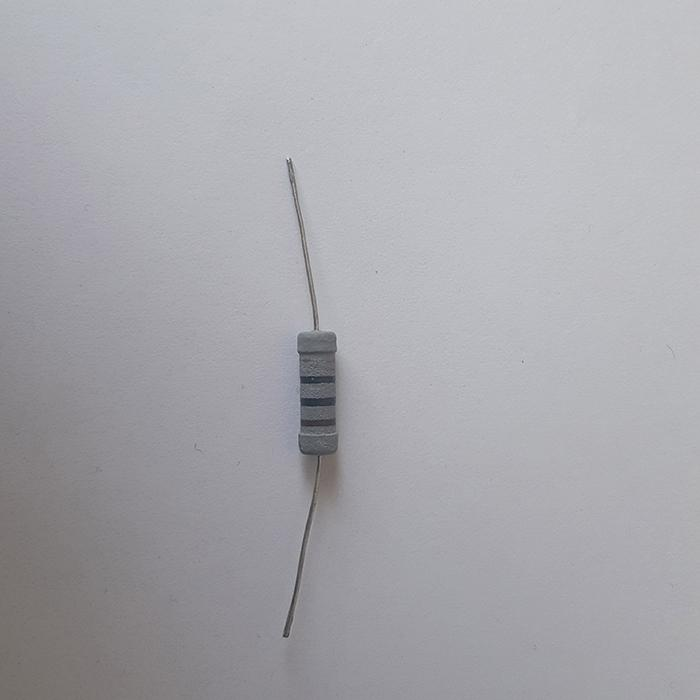resistor: (296, 328, 340, 455)
